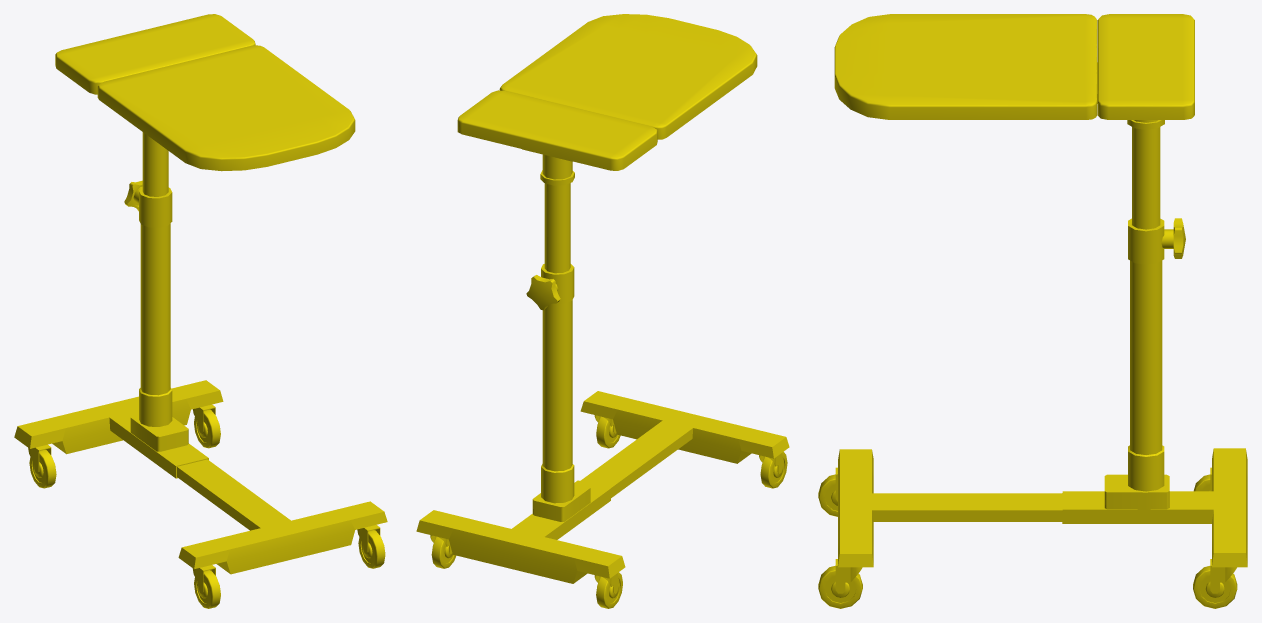
The picture shows the model from 3 angles, left to right: view 1: azimuth 30°, elevation 25°; view 2: azimuth 150°, elevation 25°; view 3: azimuth 270°, elevation 25°; orthographic projection. The views are drawn at different scales.
Visible parts, largest first — view 1: Table, Base, Base_Extender, Upper; view 2: Table, Base, Upper, Base_Extender; view 3: Table, Base, Upper, Base_Extender.
Boxes of the visible parts, bbox=[...] form: Table: bbox=[97, 45, 355, 171]; Base: bbox=[14, 180, 223, 488]; Base_Extender: bbox=[177, 459, 387, 608]; Upper: bbox=[55, 14, 255, 196]; Table: bbox=[499, 14, 757, 139]; Base: bbox=[416, 264, 625, 608]; Upper: bbox=[457, 90, 657, 273]; Base_Extender: bbox=[580, 391, 789, 497]; Table: bbox=[834, 14, 1097, 119]; Base: bbox=[1062, 218, 1247, 608]; Upper: bbox=[1097, 14, 1194, 229]; Base_Extender: bbox=[818, 449, 1062, 608].
Bounding box in the file's own units: 1.17 × 2.54 × 1.97.
